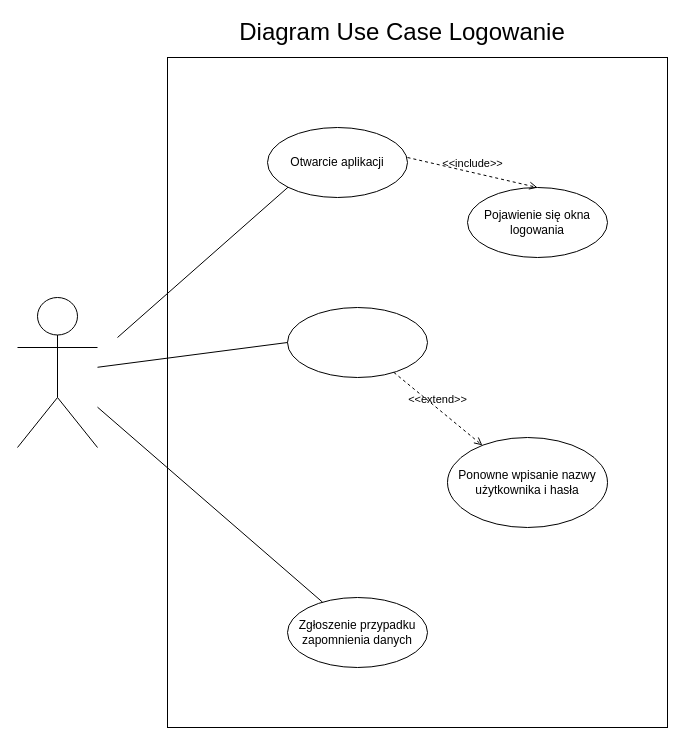
This 685x745 diagram has some shape labels left out. Here are the shapes that lost their labels. From the top down, the centre of each, then its label:
pixel 357 342: Wpisanie nazwy użytkownika i hasła
pixel 57 372: Pracownik
